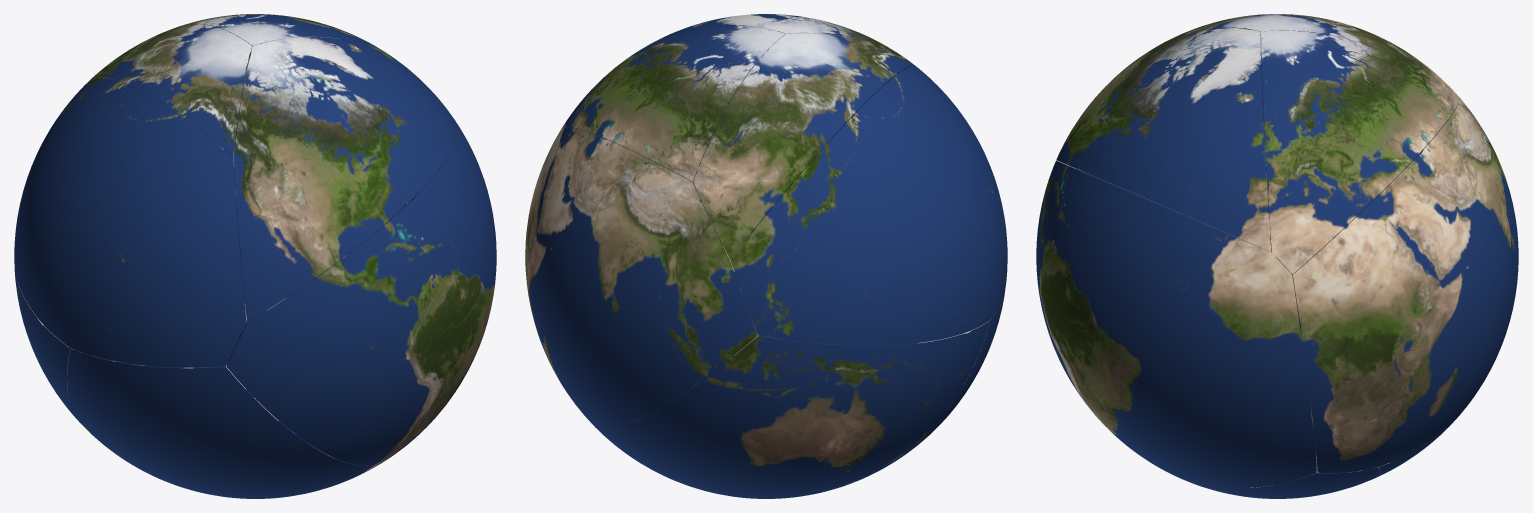
3 views of the same model, side by side, from view 1: azimuth 30°, elevation 25°; view 2: azimuth 150°, elevation 25°; view 3: azimuth 270°, elevation 25° (orthographic).
Visible parts, largest first — view 1: Sphere.001_cell.006, Sphere.001_cell.003, Sphere.001_cell.007, Sphere.001_cell.005, Sphere.001_cell, Sphere.001_cell.002, Sphere.001_cell.004; view 2: Sphere.001_cell.006, Sphere.001_cell.001, Sphere.001_cell.004, Sphere.001_cell, Sphere.001_cell.002, Sphere.001_cell.007, Sphere.001_cell.005; view 3: Sphere.001_cell.003, Sphere.001_cell.001, Sphere.001_cell.007, Sphere.001_cell.002, Sphere.001_cell, Sphere.001_cell.005.
Part boxes in pixels (box(x1,y1,x2,y2)): Sphere.001_cell.006: box(14, 78, 246, 367); Sphere.001_cell.003: box(226, 125, 496, 465); Sphere.001_cell.007: box(234, 37, 458, 322); Sphere.001_cell.005: box(67, 348, 382, 498); Sphere.001_cell: box(90, 24, 252, 159); Sphere.001_cell.002: box(181, 14, 406, 67); Sphere.001_cell.004: box(14, 262, 80, 423); Sphere.001_cell.006: box(730, 65, 1007, 345); Sphere.001_cell.001: box(525, 127, 757, 428); Sphere.001_cell.004: box(594, 320, 990, 498); Sphere.001_cell: box(693, 33, 912, 259); Sphere.001_cell.002: box(561, 25, 785, 182); Sphere.001_cell.007: box(647, 14, 929, 77); Sphere.001_cell.005: box(795, 289, 1005, 497); Sphere.001_cell.003: box(1036, 160, 1316, 487); Sphere.001_cell.001: box(1289, 104, 1518, 472); Sphere.001_cell.007: box(1056, 27, 1271, 251); Sphere.001_cell.002: box(1261, 30, 1457, 274); Sphere.001_cell: box(1168, 14, 1474, 116); Sphere.001_cell.005: box(1158, 467, 1380, 498).
Bounding box in the file's own units: 1.97 × 2 × 1.97.
1 material, 1 textured.
